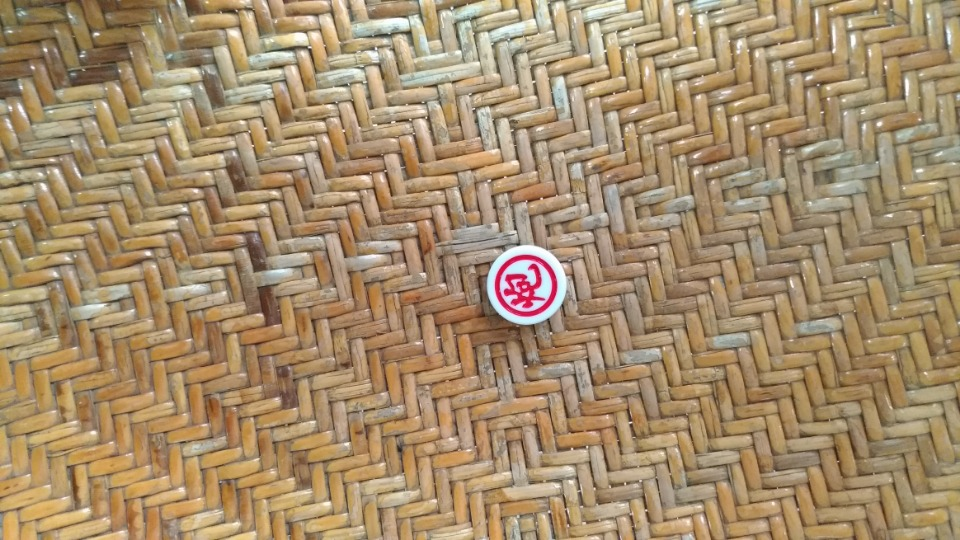r-cannon: (477, 238, 579, 337)
